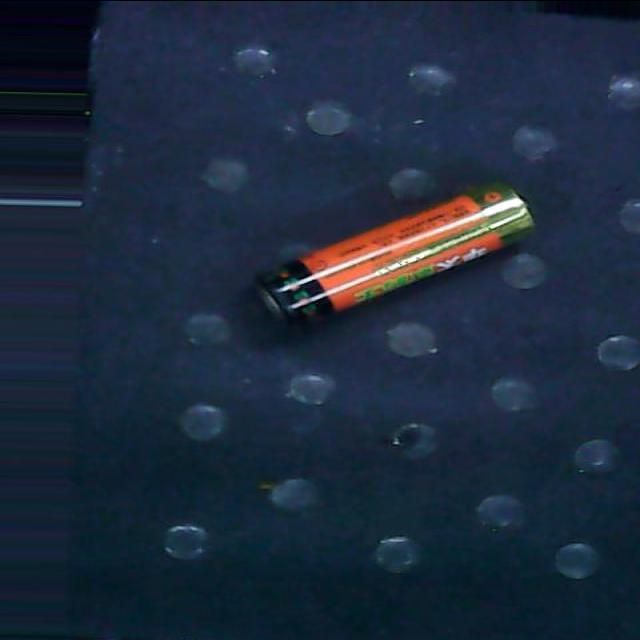-Hazardous waste - battery-: (242, 182, 537, 338)
